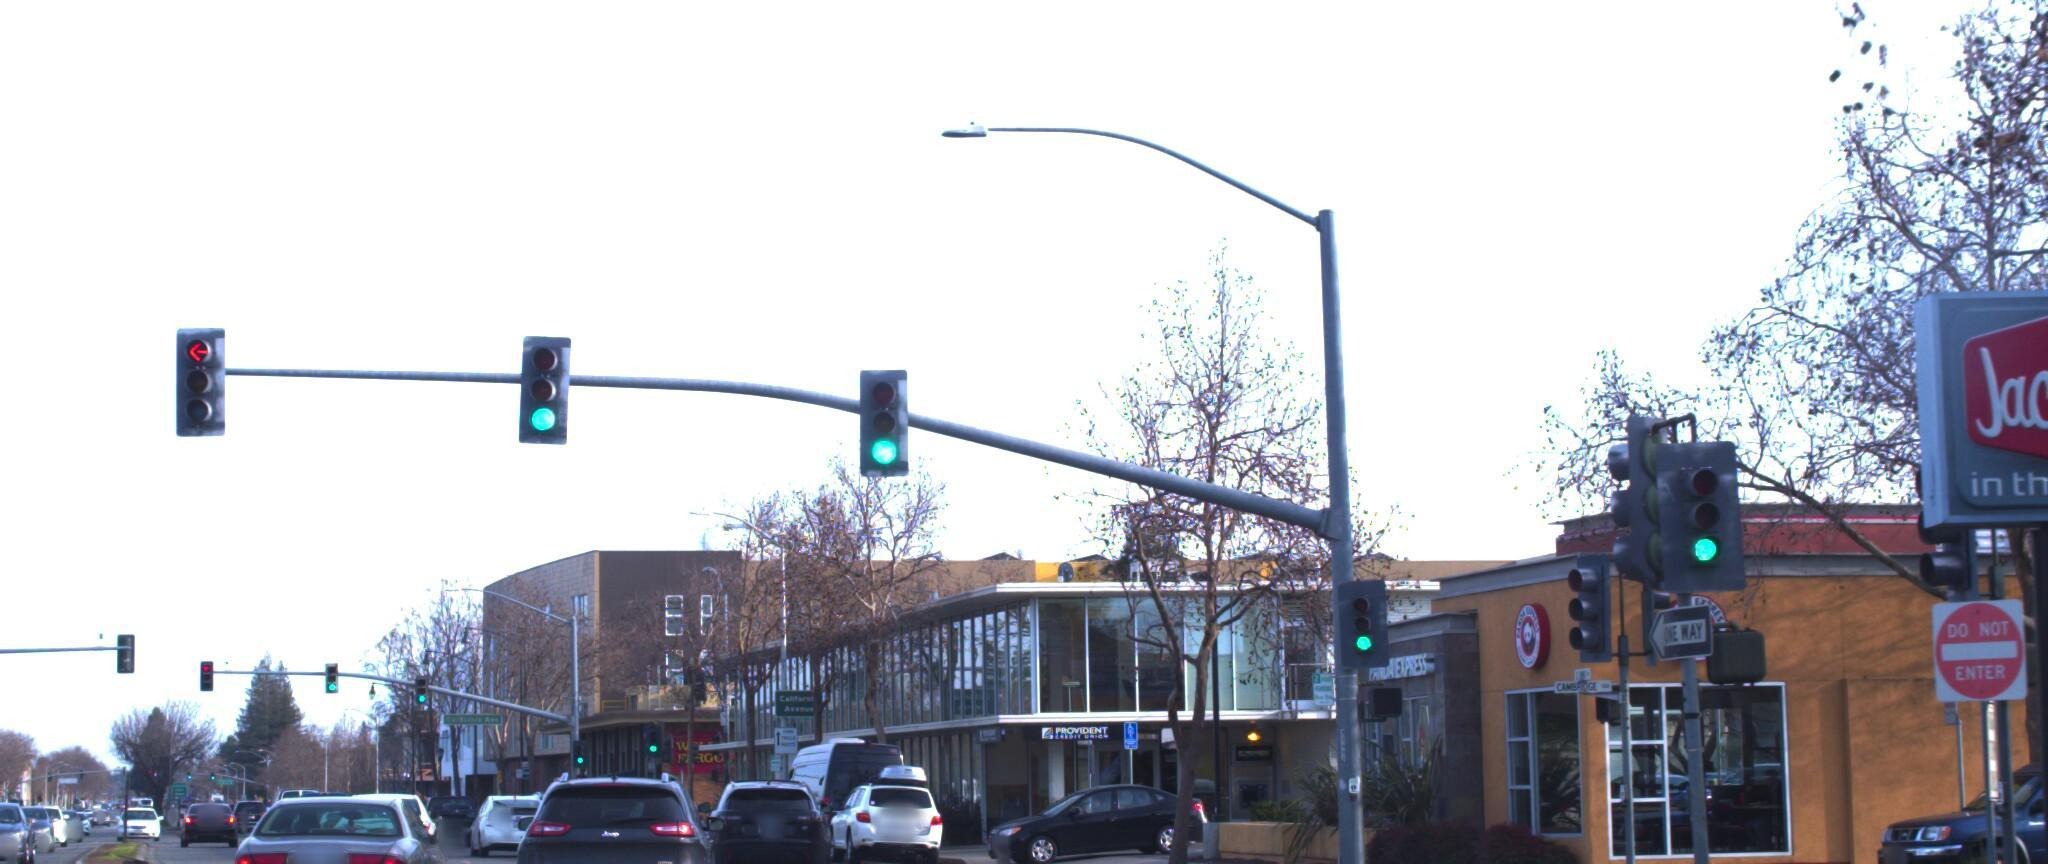car: (1825, 754, 2048, 864), (965, 760, 1232, 851), (500, 773, 738, 864), (210, 792, 455, 864), (707, 764, 832, 864), (823, 764, 947, 855), (342, 779, 462, 864), (441, 767, 537, 851), (0, 803, 24, 864)
